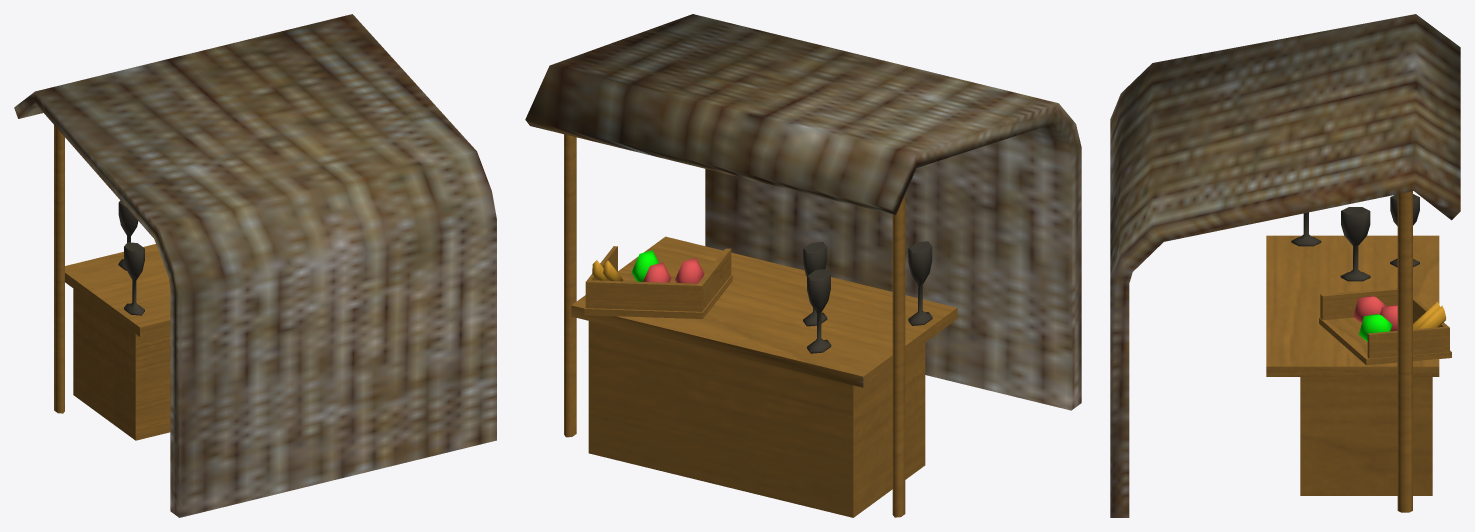
Rendered from stall.obj.
3 views of the same model, side by side, from view 1: azimuth 30°, elevation 25°; view 2: azimuth 150°, elevation 25°; view 3: azimuth 270°, elevation 25° (orthographic). The views are drawn at different scales.
Parts seen in each view (by area): view 1: Cube; view 2: Cube; view 3: Cube.
Part boxes in pixels (x1,y1,x2,y2): Cube: (14,14,496,517); Cube: (525,14,1081,517); Cube: (1110,14,1460,517).
Size of the model in its own units: 2.01 by 1.94 by 1.81.
Materials: 1 (1 with a texture image).
